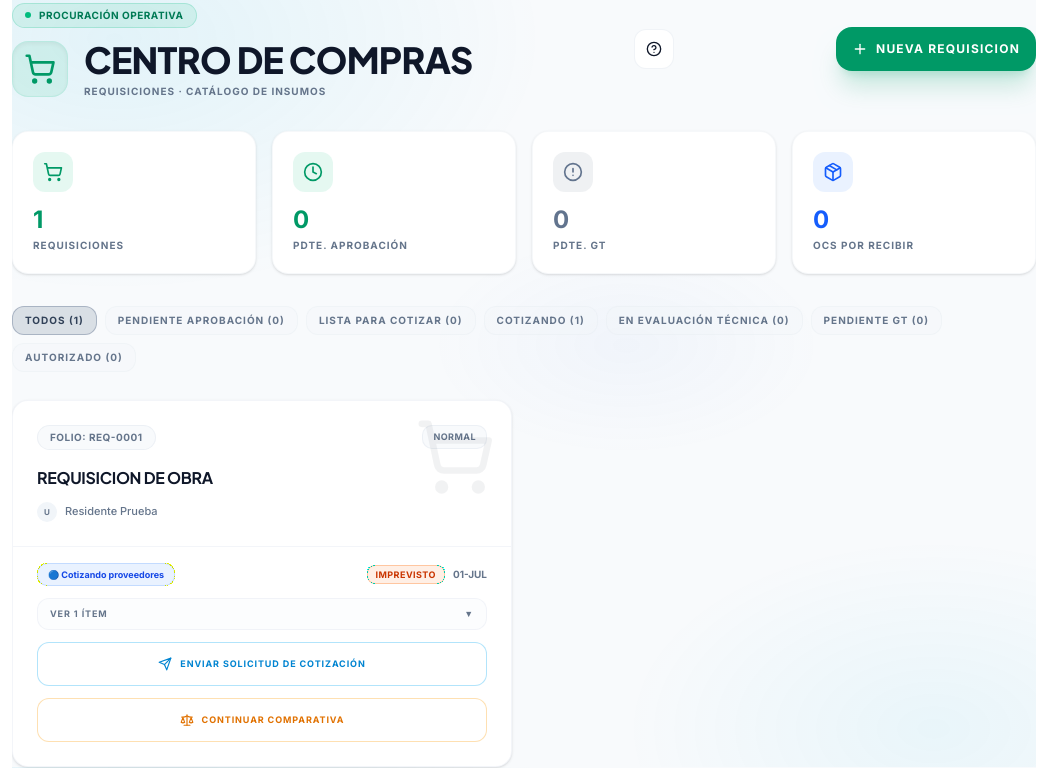
Test: ComprasView — descripción de línea de texto libre tras normalizar desde el backend › una línea sin insumo_id conserva la descripción real de la requisición, no un guion
The width and height of the screenshot is (1048, 768).
Click the button "Continuar comparativa" at (262, 720), box 37,698 -> 487,742
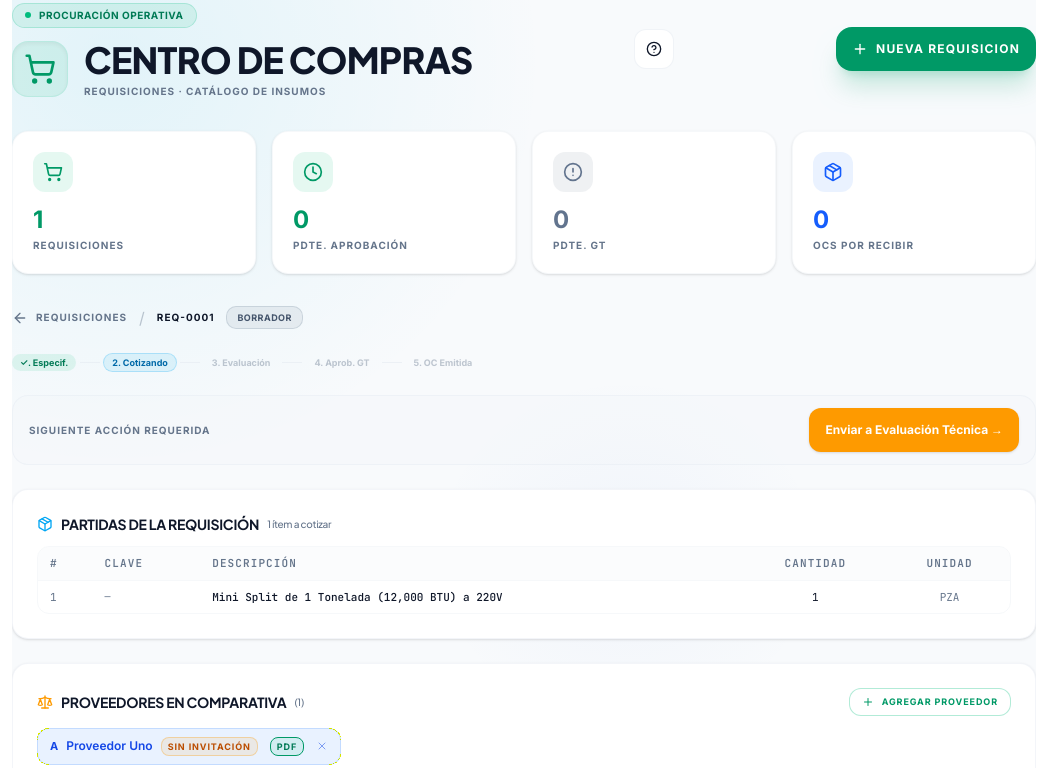
Now the text "Mini Split de 1 Tonelada (12,000 BTU) a 220V" is shown, box 200,580 -> 742,613
